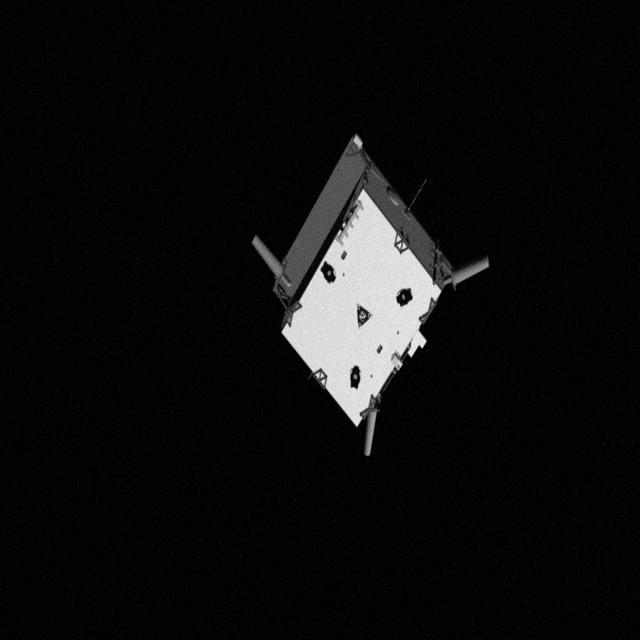satellite: (240, 122, 492, 458)
